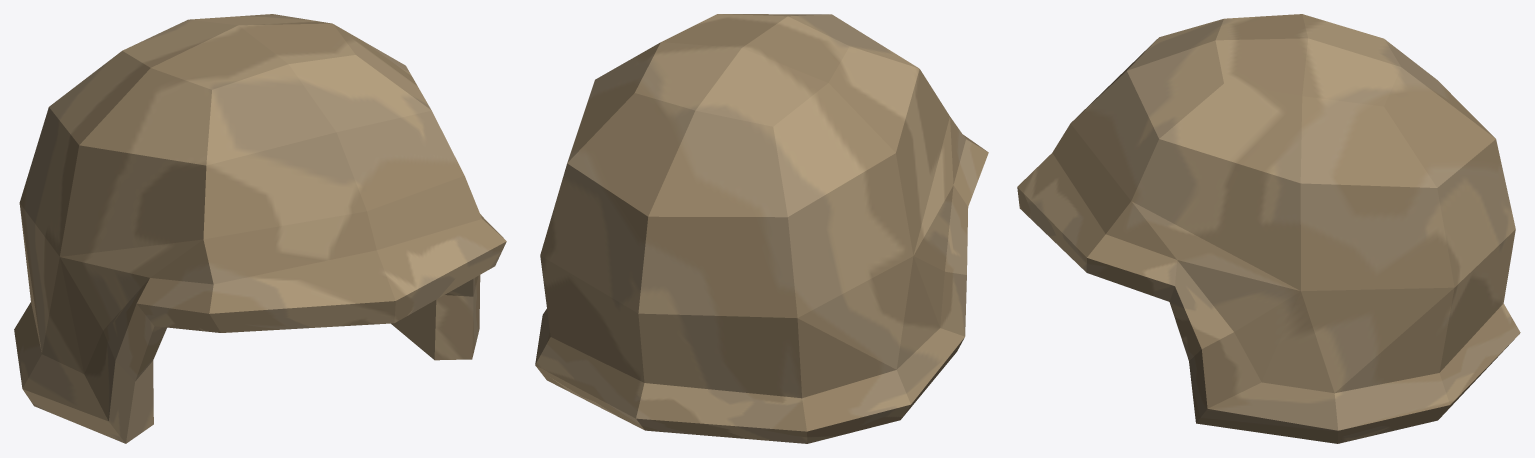
Rendered from SM_Chr_Attach_Helmet_01.fbx.
3 renders of one model, left to right at view 1: azimuth 30°, elevation 25°; view 2: azimuth 150°, elevation 25°; view 3: azimuth 270°, elevation 25°, orthographic. The views are drawn at different scales.
Visible parts, largest first — view 1: SM_Chr_Attach_Helmet_01; view 2: SM_Chr_Attach_Helmet_01; view 3: SM_Chr_Attach_Helmet_01.
Part boxes in pixels (<box>): SM_Chr_Attach_Helmet_01: <box>14,14,506,443</box>; SM_Chr_Attach_Helmet_01: <box>535,14,988,443</box>; SM_Chr_Attach_Helmet_01: <box>1017,14,1520,443</box>.
Bounding box in the file's own units: 32.13 × 26.61 × 37.87.
